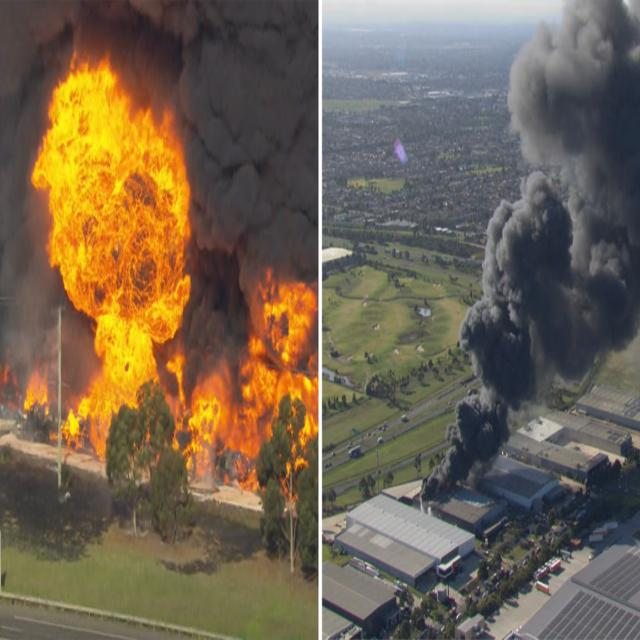fire: (14, 42, 316, 516)
